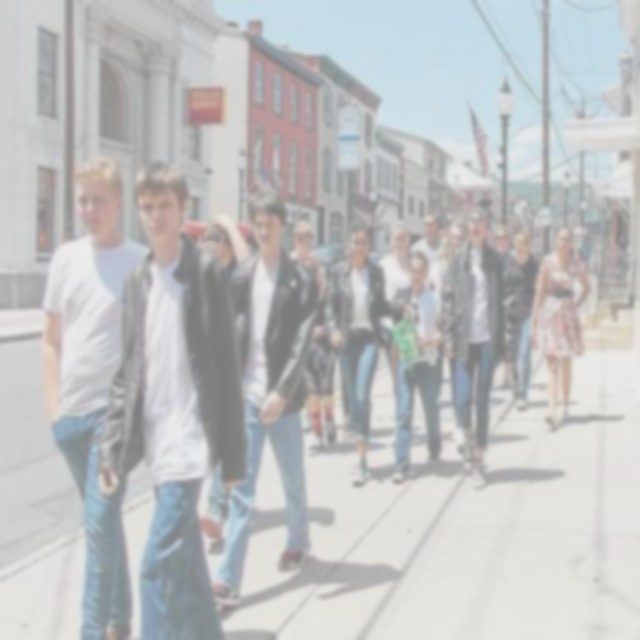pessoa: (95, 156, 248, 638), (39, 156, 153, 638), (210, 187, 322, 608), (324, 218, 413, 488), (438, 203, 506, 493), (526, 222, 592, 432), (328, 218, 387, 444), (388, 250, 444, 484), (294, 255, 342, 454), (502, 227, 540, 410), (444, 218, 471, 452), (375, 216, 418, 331), (188, 210, 256, 282), (288, 219, 322, 285), (410, 213, 446, 261), (426, 226, 452, 284), (492, 224, 517, 272)
